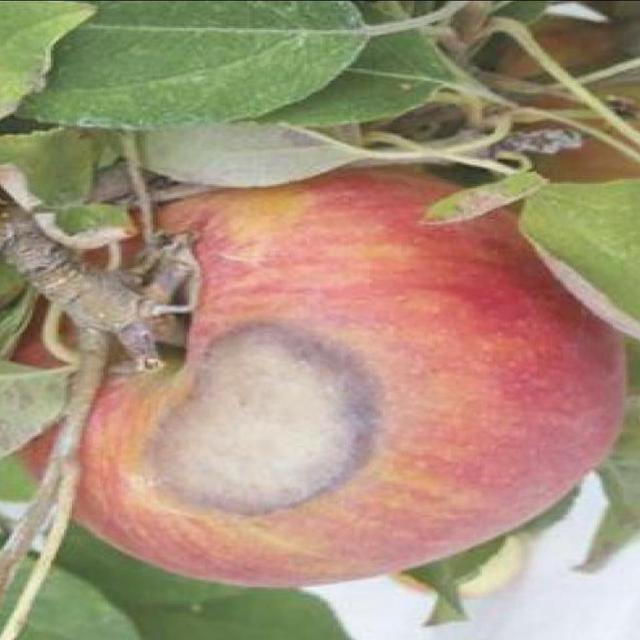Sunscald Fruit: (99, 221, 247, 340)
